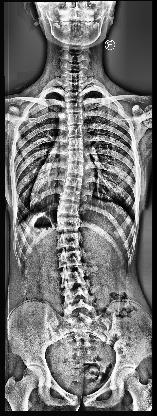Vertebrae: (50, 250, 90, 266), (52, 269, 92, 285), (58, 286, 96, 302), (54, 232, 86, 247), (54, 204, 84, 216), (55, 218, 84, 230), (62, 126, 90, 138), (62, 149, 90, 161), (62, 162, 88, 174), (62, 176, 86, 188), (62, 138, 90, 148), (57, 190, 85, 200), (65, 114, 87, 126), (62, 80, 88, 90), (61, 103, 87, 113), (64, 91, 84, 101)
